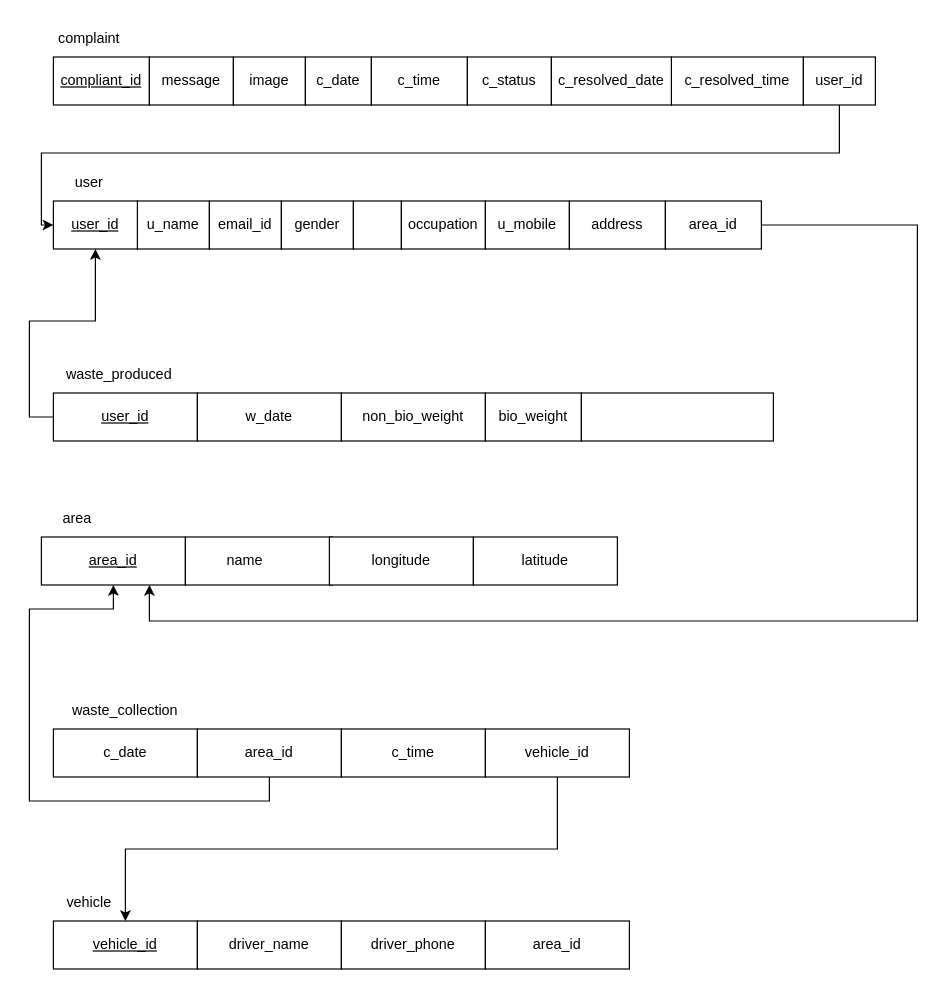
Some shapes in this 948 by 990 pixel diagram are drawn without their labels. The shapes that lost their labels are listed below. From the top down, each one's centre as x and y in pixels, then its label:
(376,224): age
(676,416): total_waste_per_day
